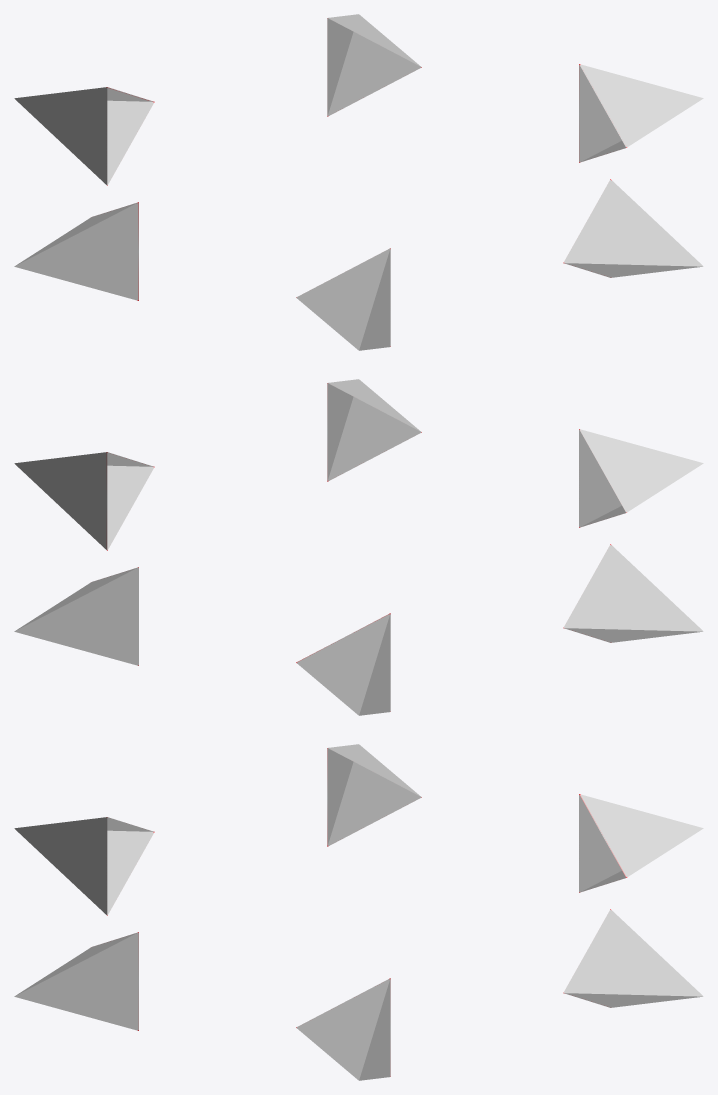
The model's file is E_Thorn.gltf.
3 views of the same model, one above another, from view 1: azimuth 30°, elevation 25°; view 2: azimuth 150°, elevation 25°; view 3: azimuth 270°, elevation 25° (orthographic).
Visible parts, largest first — view 1: 円柱.004; view 2: 円柱.004; view 3: 円柱.004.
Part boxes in pixels (x1=…): 円柱.004: x1=14, y1=14, x2=703, y2=350; 円柱.004: x1=14, y1=379, x2=703, y2=715; 円柱.004: x1=14, y1=744, x2=703, y2=1080.
Size of the model in its own units: 1 by 0.137 by 0.866.
1 material, 1 textured.
